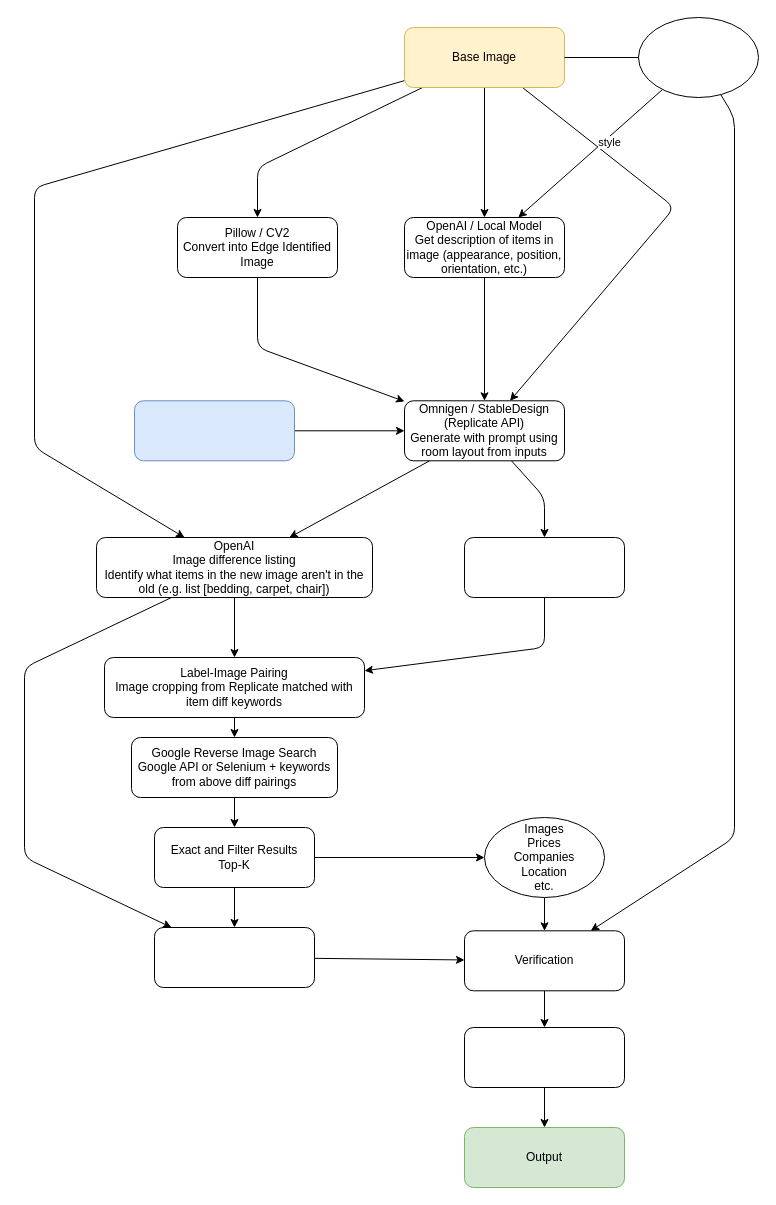
Some shapes in this 776 by 1205 pixel diagram are drawn without their labels. Each missing label, with the box of its shape:
(RAG) Sample Decorated Dorm Images: (134, 400, 294, 461)
Approximate Similarity Check Top-K: (154, 926, 314, 988)
Object Detection / Grouping / Bounding: (464, 536, 624, 598)
OpenAI (Optional) Replace generated items in image with real items: (464, 1026, 624, 1088)
Parameters {style, buget, etc.}: (638, 16, 758, 98)
